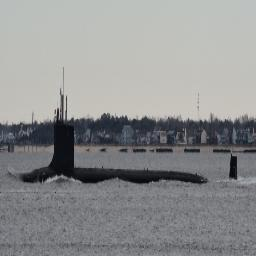submarine: (19, 69, 237, 190)
